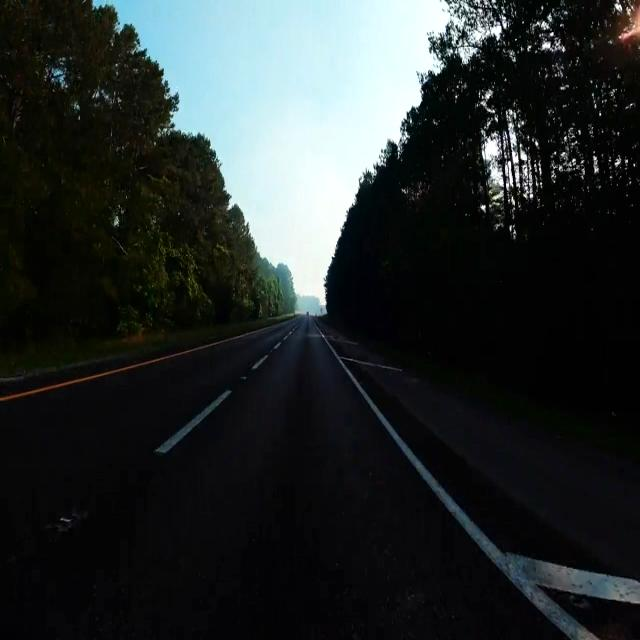road: (0, 317, 562, 637), (357, 372, 614, 569)
